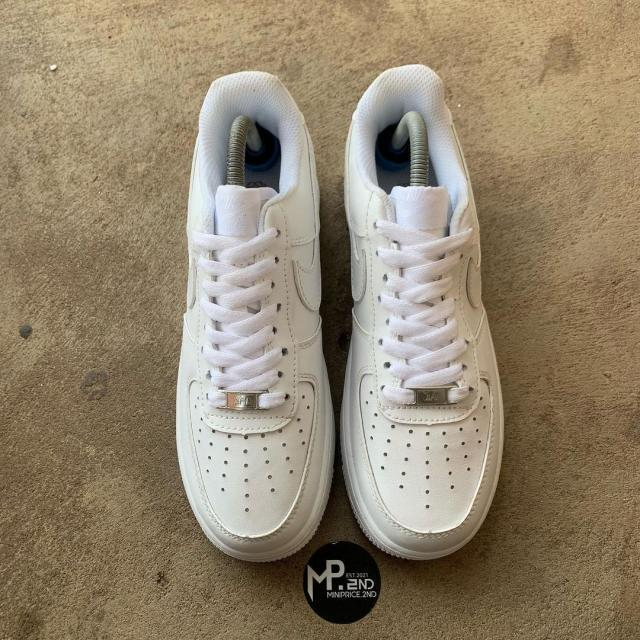nike fake air force: (339, 62, 512, 565), (172, 57, 334, 565)
